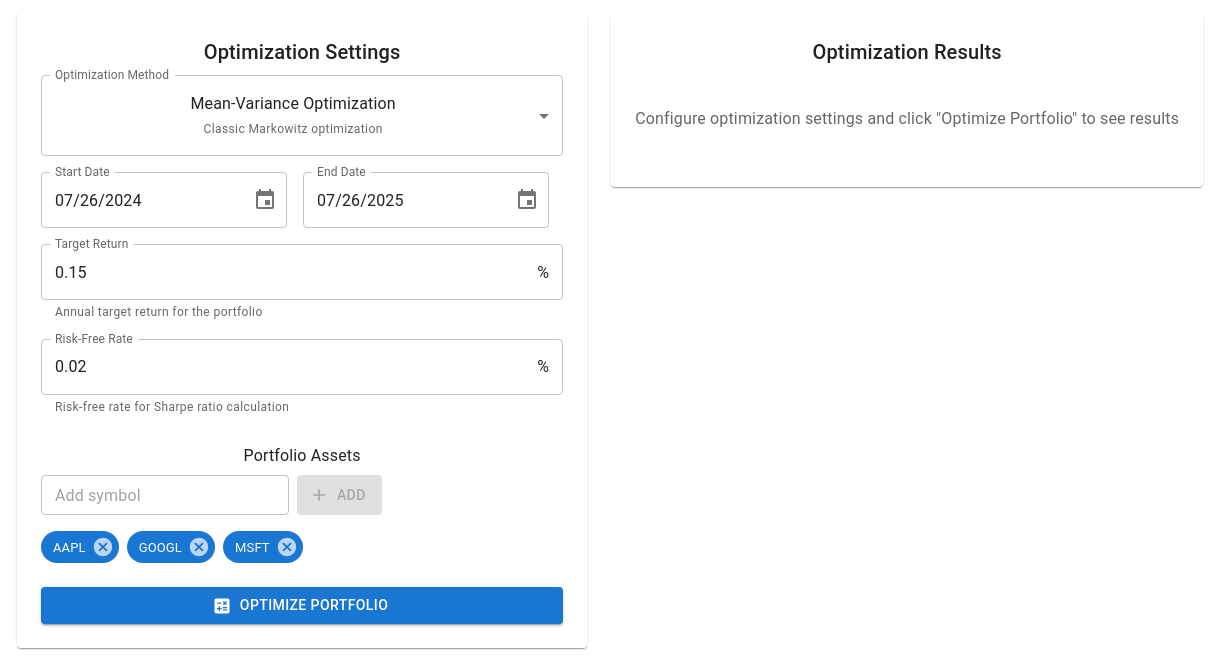
Test: PortfolioOptimizer › adds symbol on Enter key press
The width and height of the screenshot is (1221, 667).
Type "TSLA" into the field with placeholder "Add symbol". click: [165, 495]
box: [41,475,289,515]
Then press Enter
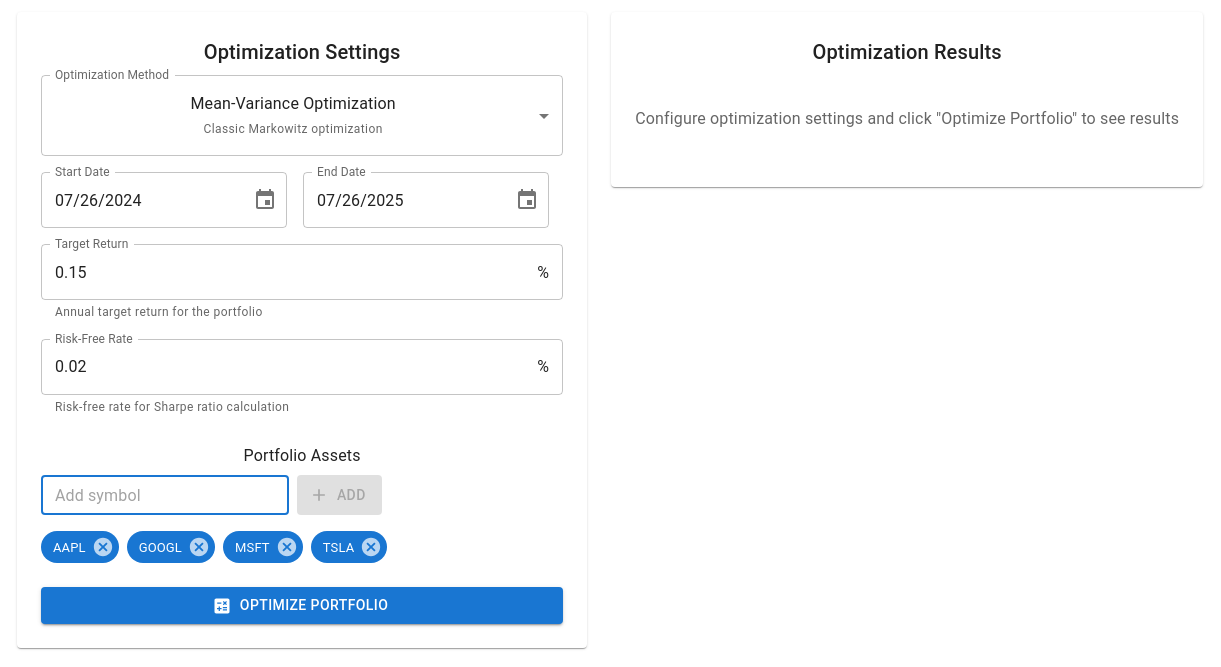
Now the text "TSLA" is shown, box [323,540,354,555]
